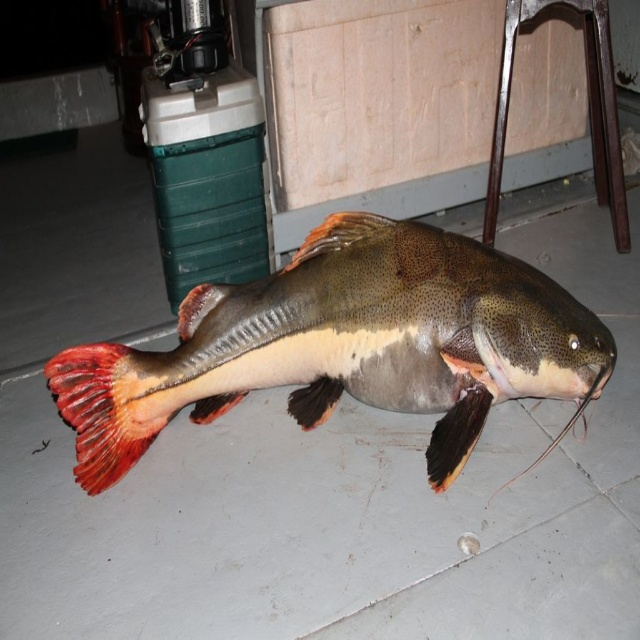Fish: (43, 192, 616, 512)
